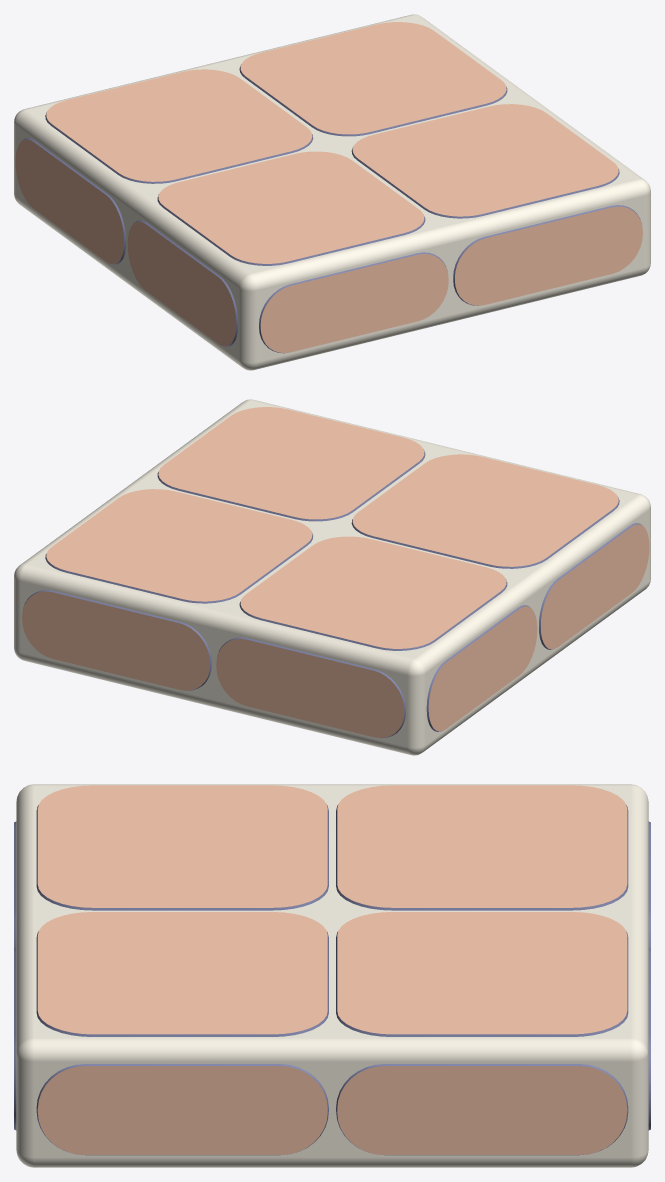
File: R4B_Plate2x2.fbx
The picture shows the model from 3 angles, top to bottom: view 1: azimuth 30°, elevation 25°; view 2: azimuth 150°, elevation 25°; view 3: azimuth 270°, elevation 25°; orthographic projection. The views are drawn at different scales.
Visible parts, largest first — view 1: R4B_Plate2x2; view 2: R4B_Plate2x2; view 3: R4B_Plate2x2.
Boxes of the visible parts, x1,y1,x2,y2 form: R4B_Plate2x2: (14,14,650,370); R4B_Plate2x2: (14,399,650,755); R4B_Plate2x2: (14,784,650,1167).
Size of the model in its own units: 1.07 by 0.245 by 1.07.
